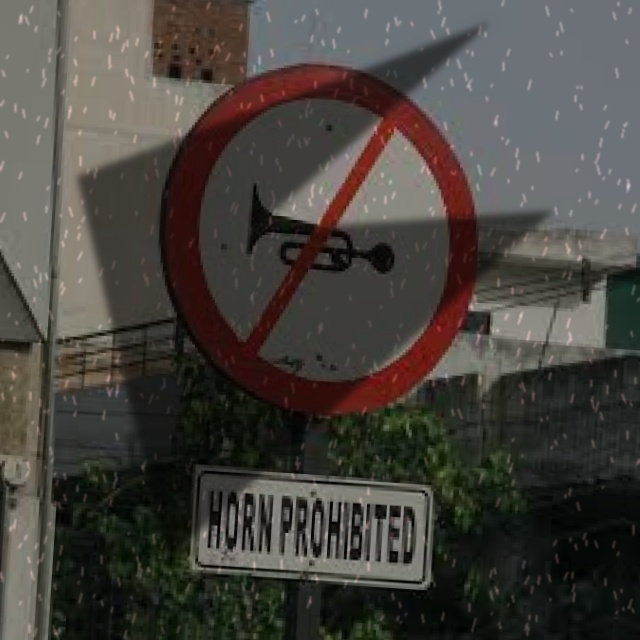Horn_Prohibited: (163, 57, 486, 421)
